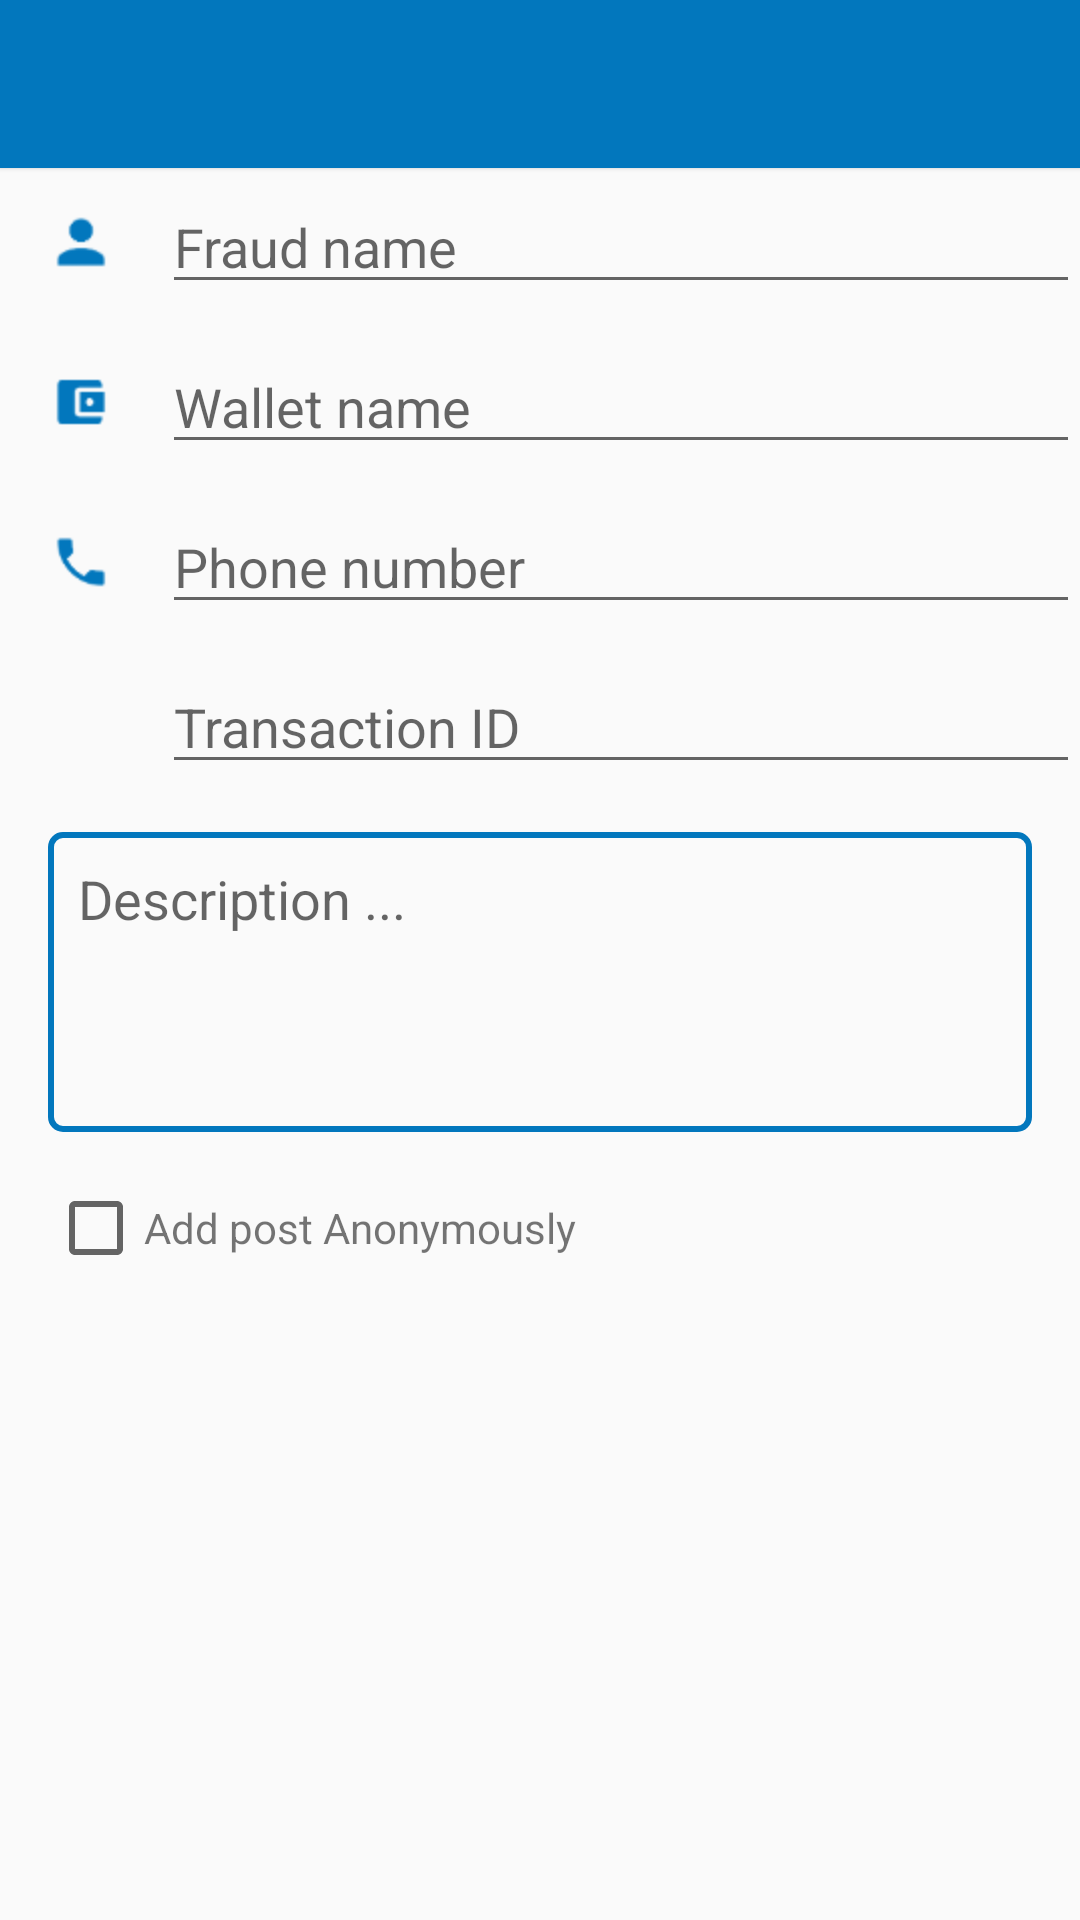

Icon click points for this 1080 × 1920 phone screenshot, format (x,y):
account balance wallet profile: (81,402)
local phone profile: (81,562)
person profile: (81,242)
